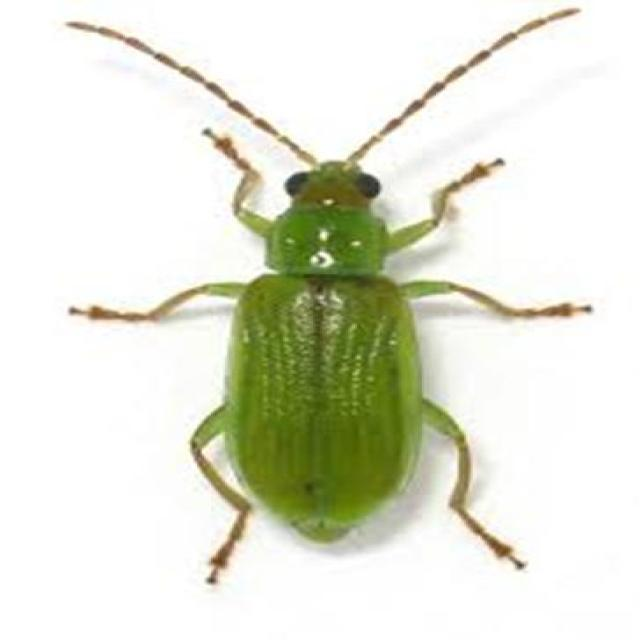gusano_gris: (62, 6, 592, 584)
